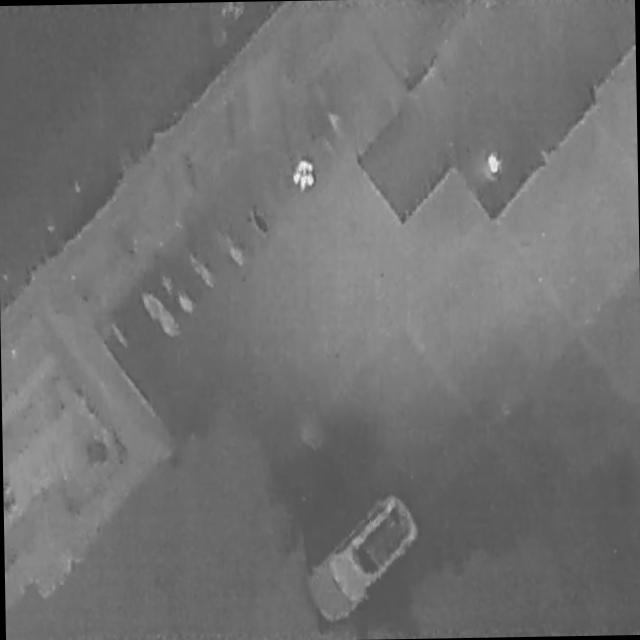person: (292, 159, 316, 190), (488, 152, 502, 176)
